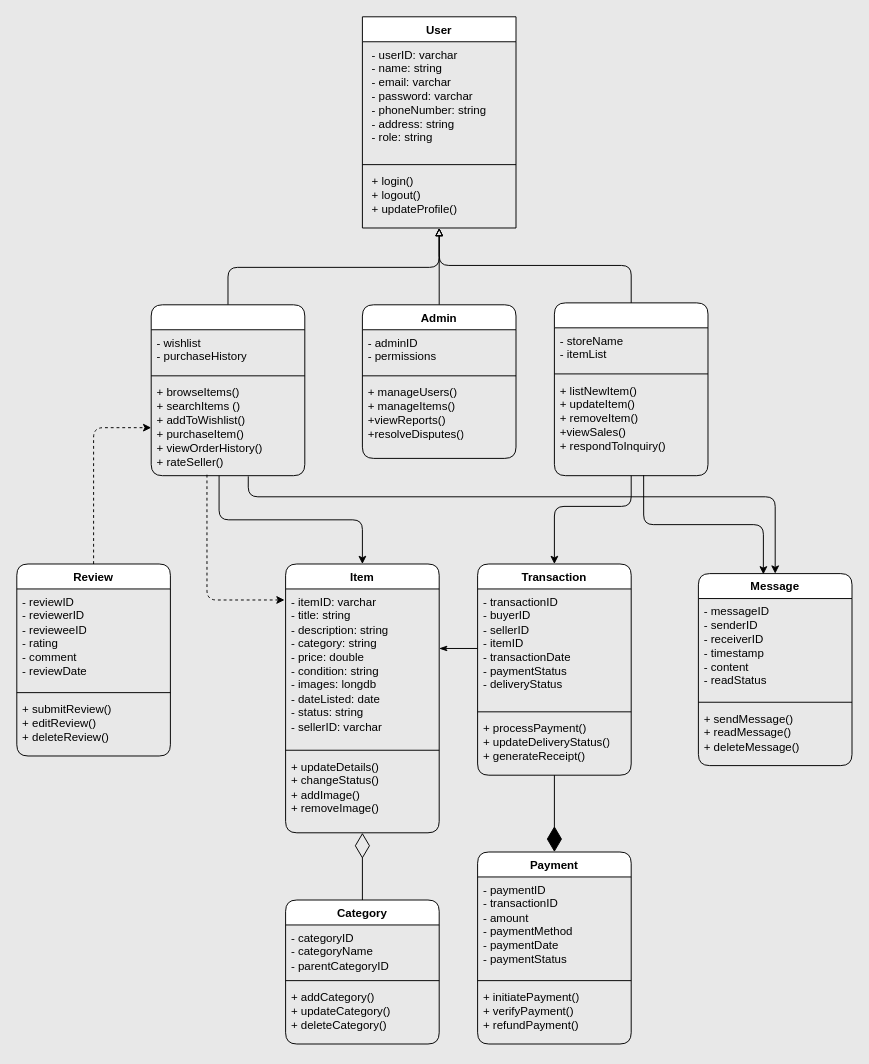
Image size: 869x1064. Some labels were removed from this diagram. Each missing label, with the box of its shape:
Buyer: (150, 304, 305, 476)
Seller: (553, 302, 708, 476)
